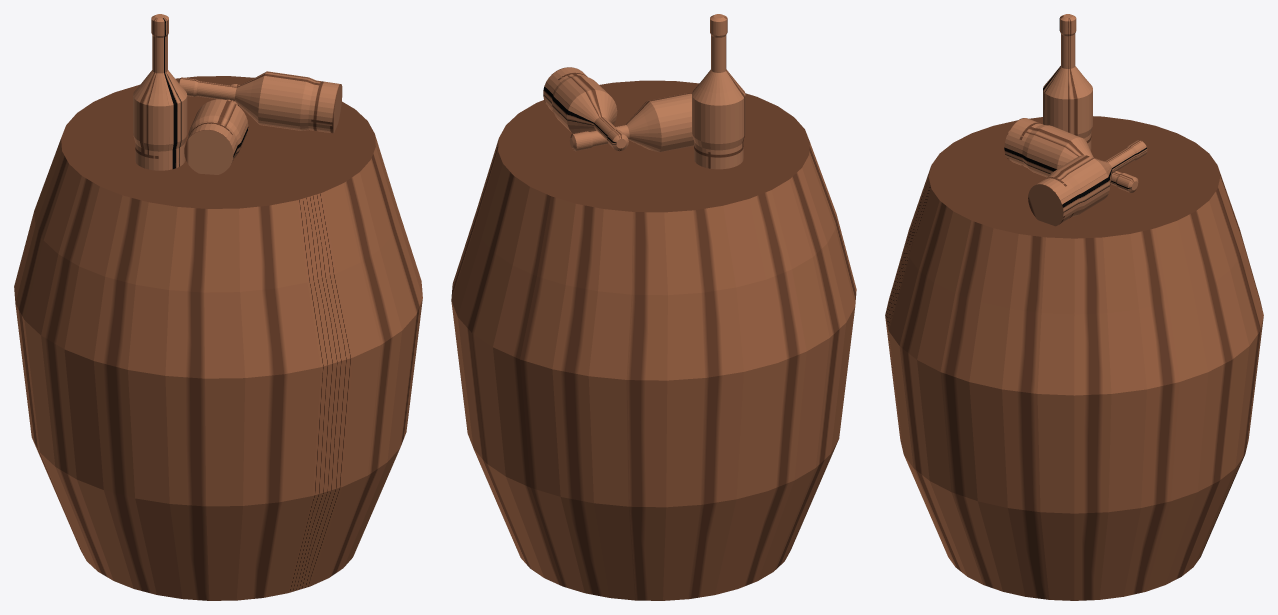
Rendered from Fıcı.fbx.
The picture shows the model from 3 angles, left to right: view 1: azimuth 30°, elevation 25°; view 2: azimuth 150°, elevation 25°; view 3: azimuth 270°, elevation 25°; orthographic projection. The views are drawn at different scales.
Visible parts, largest first — view 1: Cylinder; view 2: Cylinder; view 3: Cylinder.
Part boxes in pixels (x1=…): Cylinder: x1=14, y1=14, x2=422, y2=600; Cylinder: x1=451, y1=14, x2=856, y2=600; Cylinder: x1=885, y1=14, x2=1263, y2=600.
Size of the model in its own units: 266 by 389 by 266.
